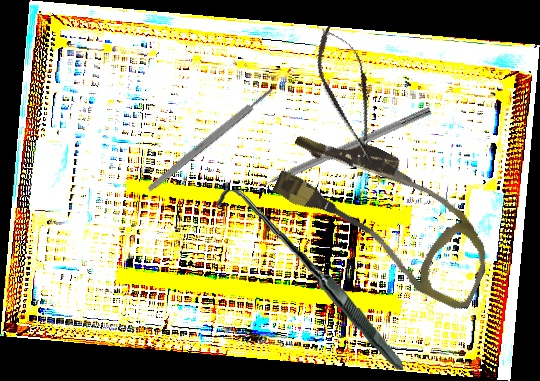Cannula: (259, 115, 514, 314)
Hook Surgical: (216, 181, 403, 380), (240, 104, 433, 199)
Micro Scissor: (306, 20, 392, 171)
Scalpel Handle: (145, 85, 277, 194)
